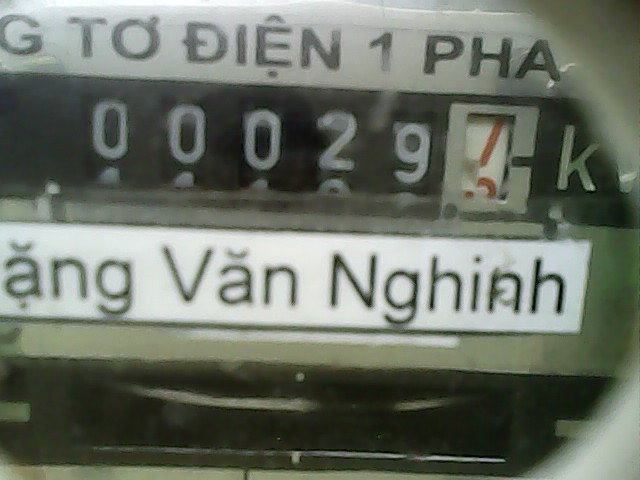phy_plate: (70, 71, 554, 226)
